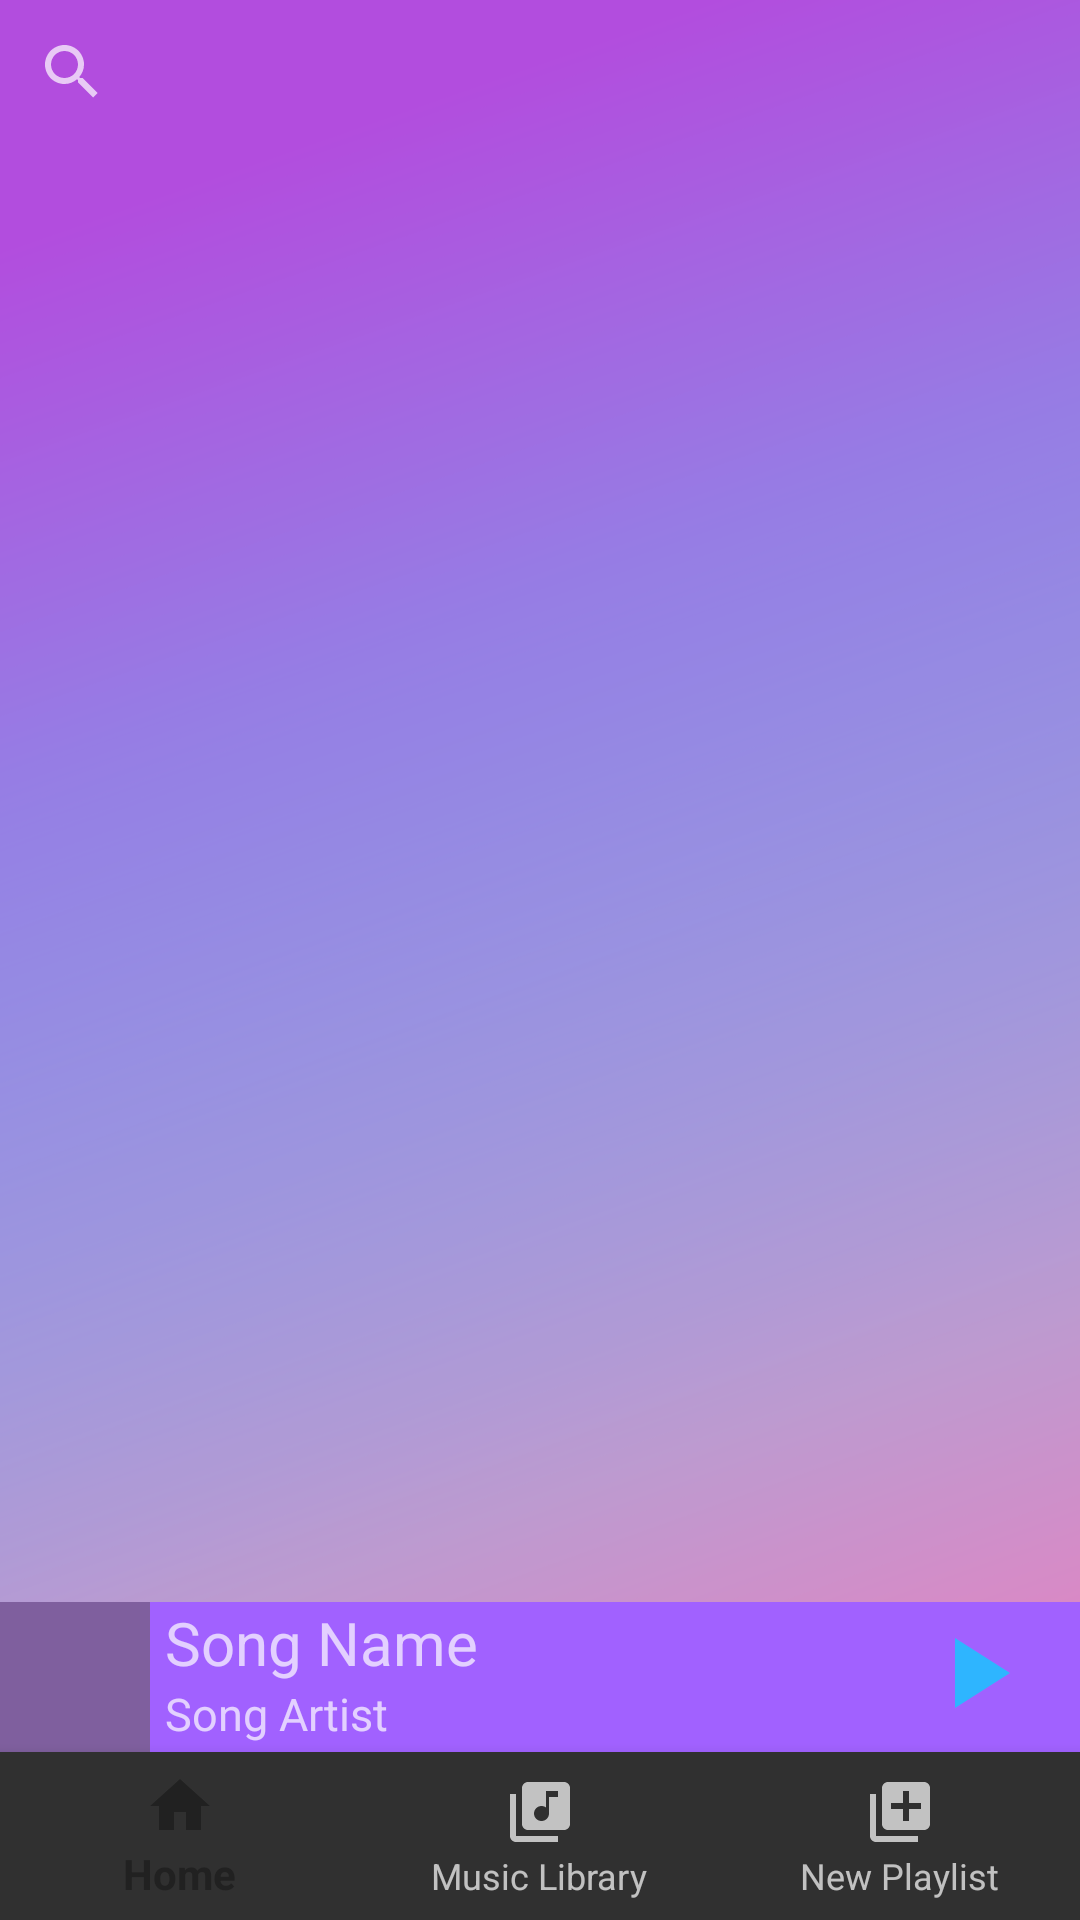

Icon bounding boxes for this 1080px×1920px phone screenshot, format Rect(x1, y1, x2, y2):
play arrow: Rect(955, 1638, 1010, 1708)
